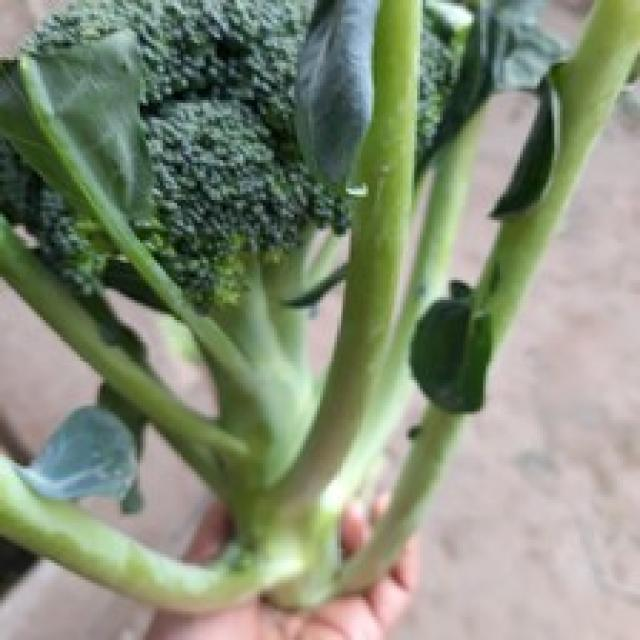Broccoli: (0, 0, 640, 609)
